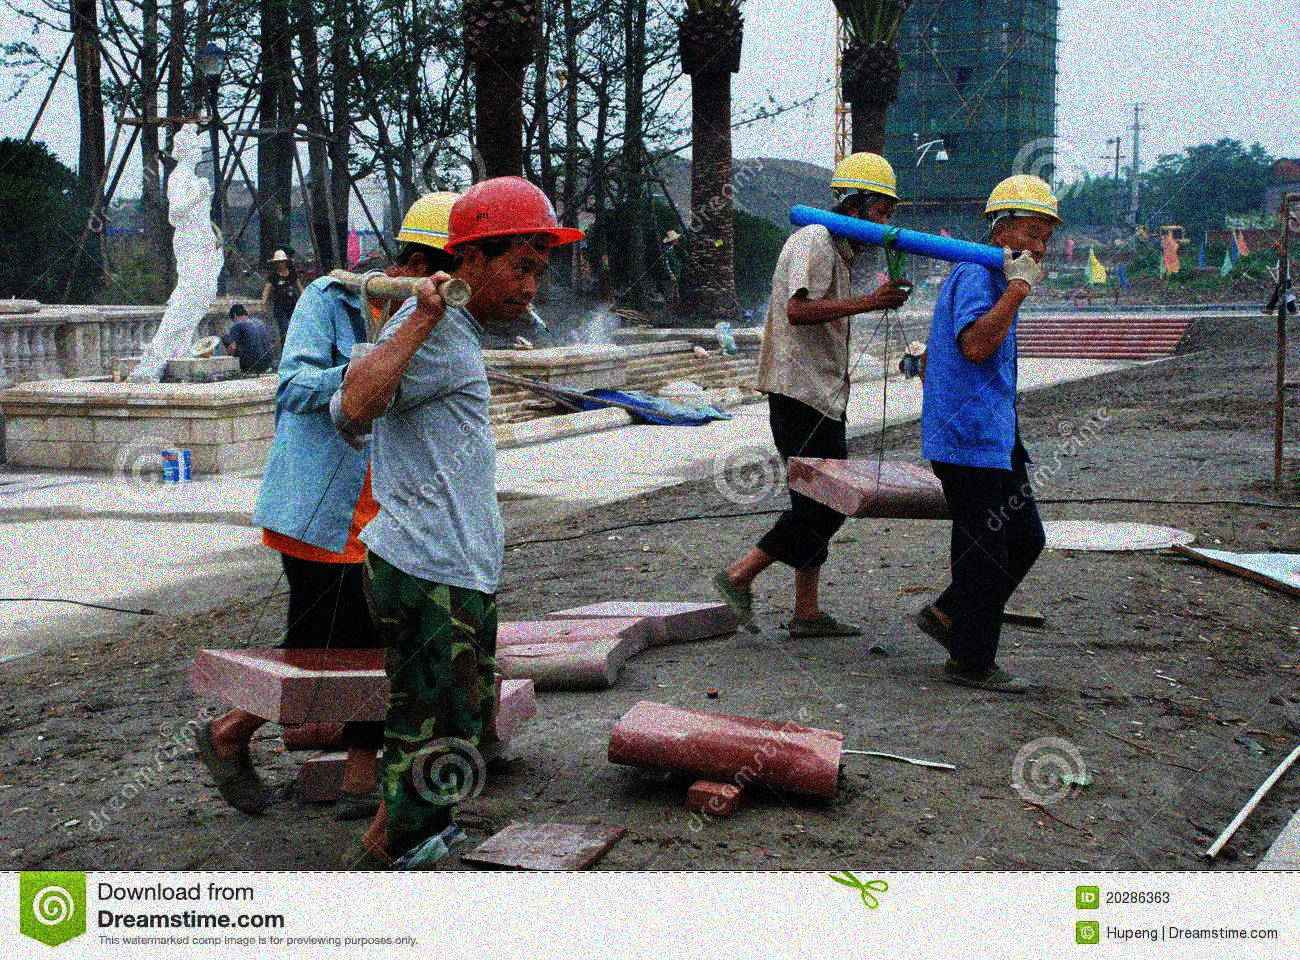helmet: (444, 174, 576, 314), (984, 170, 1064, 265), (391, 190, 471, 280), (832, 151, 901, 225)
